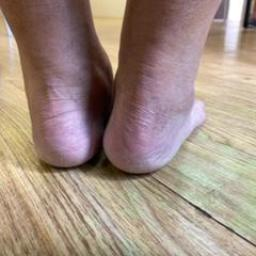Back View -Both Feet-: (1, 10, 225, 188)
